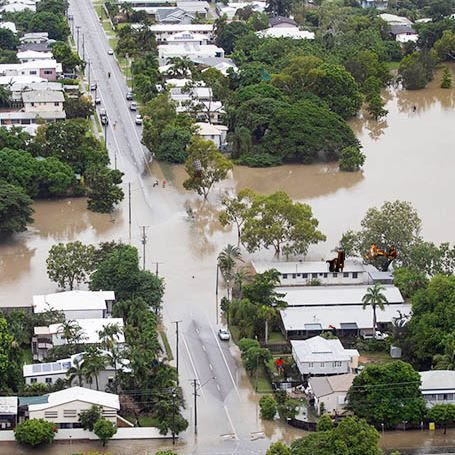Human: (365, 243, 397, 260), (137, 356, 164, 375), (187, 157, 203, 185), (326, 250, 345, 272), (275, 357, 289, 378), (259, 68, 272, 83), (403, 105, 419, 112), (153, 180, 166, 188), (328, 325, 339, 333), (404, 280, 415, 287), (59, 77, 64, 88), (306, 372, 312, 380), (113, 121, 118, 130), (52, 426, 58, 432), (399, 403, 404, 410), (32, 305, 37, 310), (144, 34, 147, 42), (108, 72, 111, 79), (355, 436, 357, 444), (424, 243, 427, 247), (344, 11, 347, 15), (406, 288, 409, 292), (286, 394, 288, 399), (436, 255, 438, 260), (192, 276, 195, 279)
